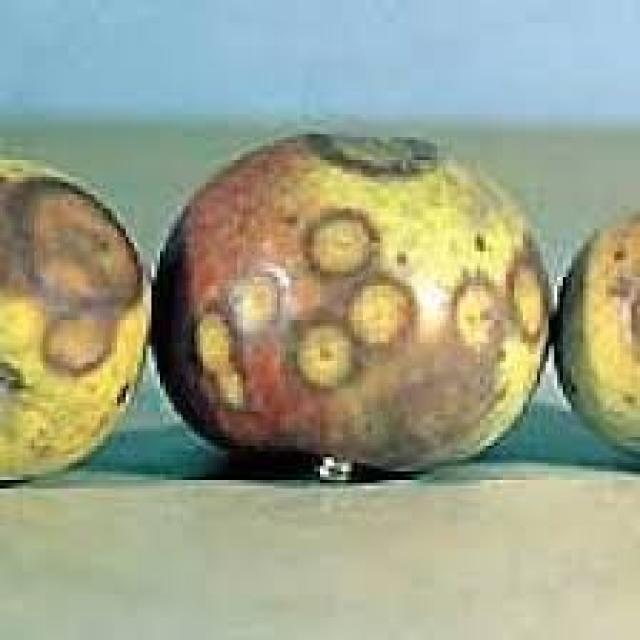organic waste: (152, 132, 548, 472), (0, 154, 146, 472), (552, 203, 637, 454)
